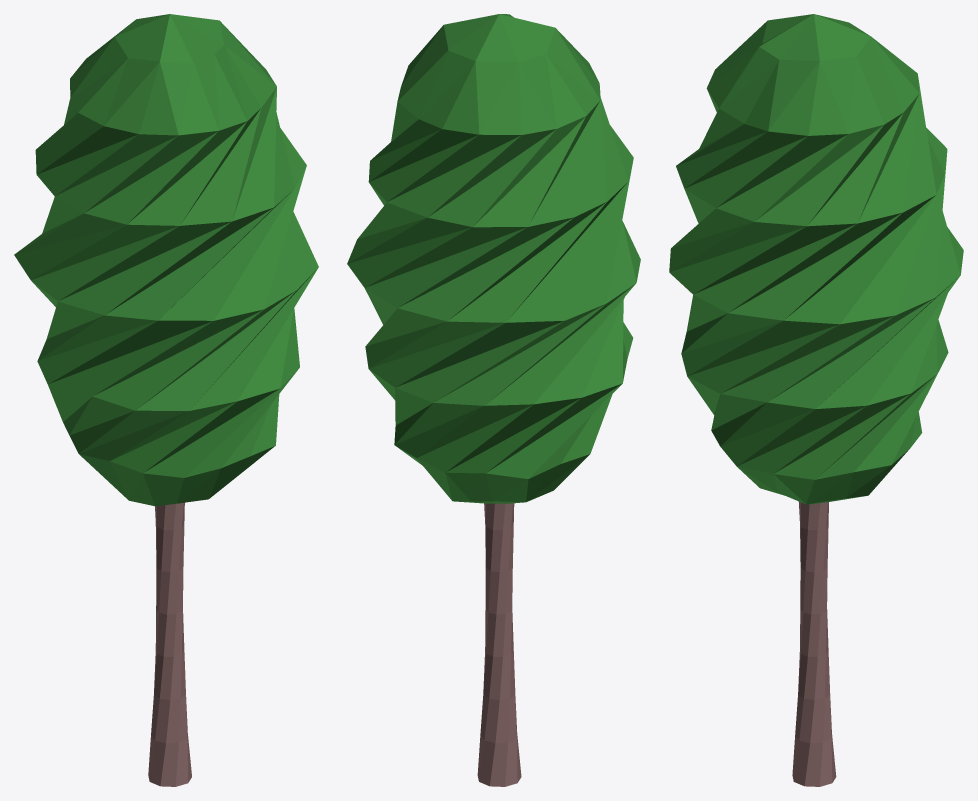
The model's file is Arvore.fbx.
3 renders of one model, left to right at view 1: azimuth 30°, elevation 25°; view 2: azimuth 150°, elevation 25°; view 3: azimuth 270°, elevation 25°, orthographic.
Parts seen in each view (by area): view 1: low_poly_tree:polySurface1; view 2: low_poly_tree:polySurface1; view 3: low_poly_tree:polySurface1.
Part boxes in pixels (x1=…): low_poly_tree:polySurface1: x1=14, y1=14, x2=318, y2=786; low_poly_tree:polySurface1: x1=347, y1=14, x2=640, y2=786; low_poly_tree:polySurface1: x1=669, y1=14, x2=963, y2=786.
Bounding box in the file's own units: 4.72 × 13.56 × 4.74.
